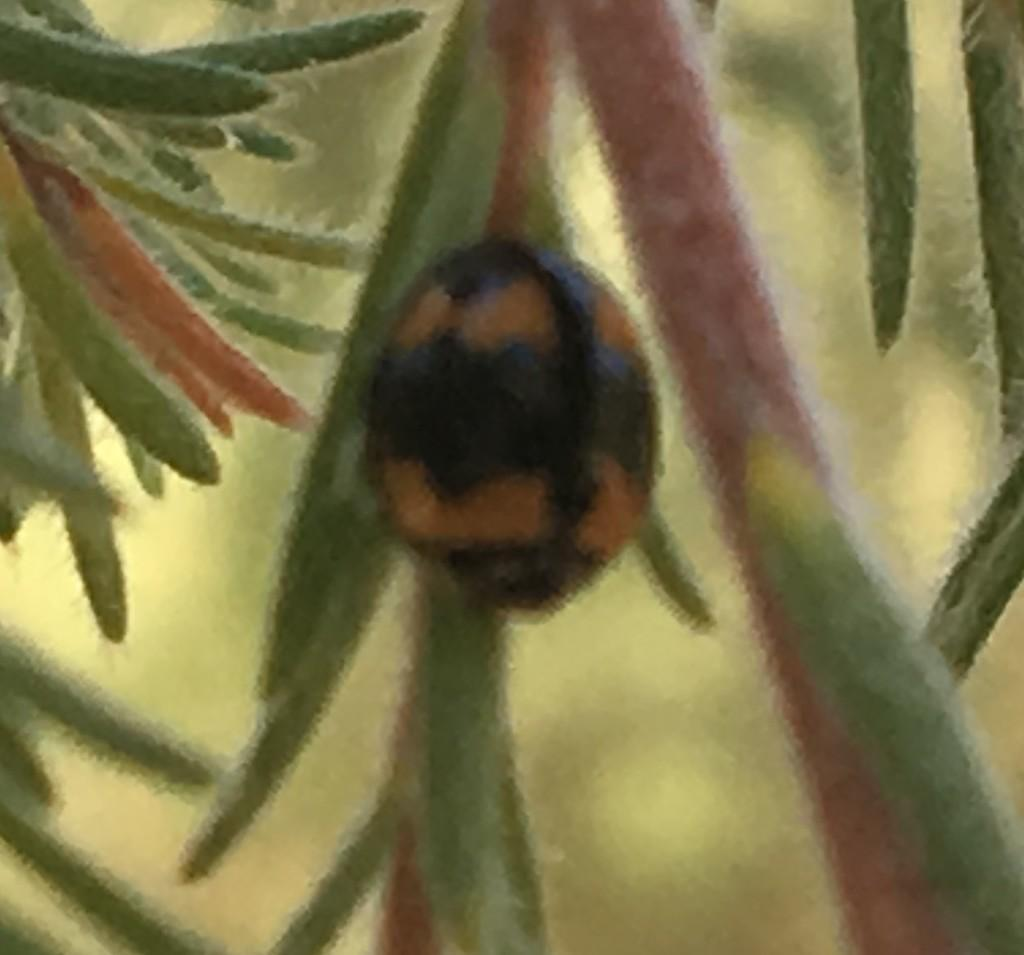ladybug: (364, 226, 671, 629)
